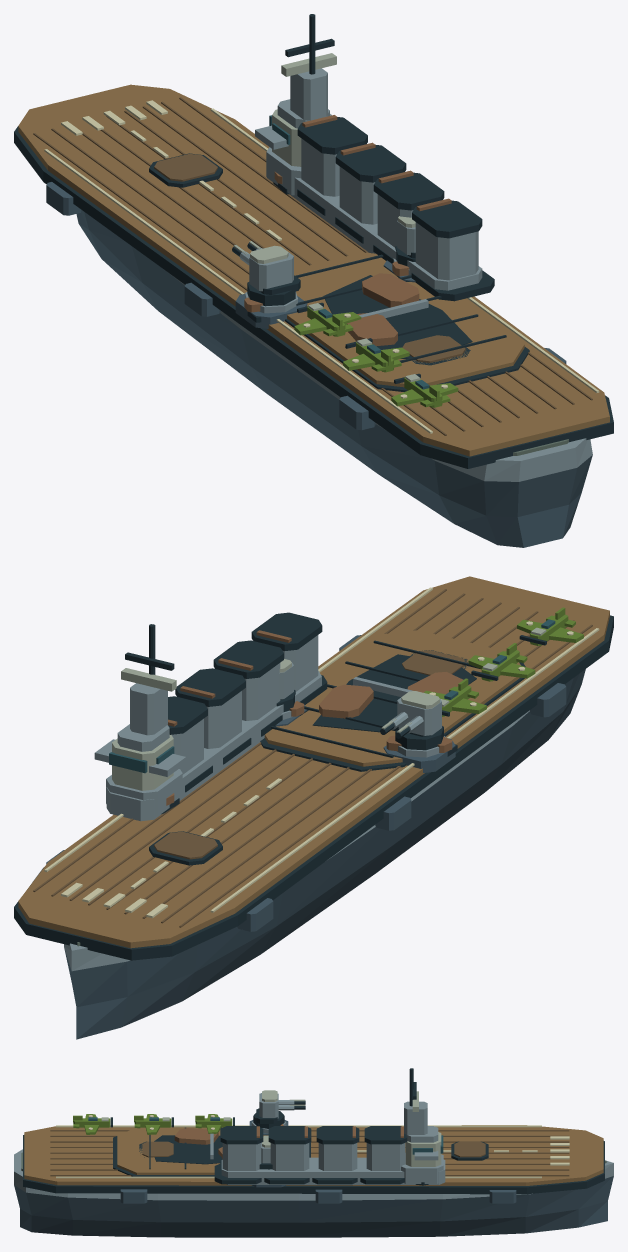
Rendered from historic-independence.glb.
3 renders of one model, top to bottom at view 1: azimuth 30°, elevation 25°; view 2: azimuth 150°, elevation 25°; view 3: azimuth 270°, elevation 25°, orthographic. The views are drawn at different scales.
Parts seen in each view (by area): view 1: historic-independence-historic-independence-geometry, historic-independence-part_flight-deck.015-geometry, historic-independence-historic_funnel_3.001-geometry, historic-independence-ruin_flight-deck.014-geometry, historic-independence-part_bridge.073-geometry, historic-independence-historic_funnel_2.004-geometry, historic-independence-historic_funnel_1.039-geometry, historic-independence-historic_funnel_0.076-geometry, historic-independence-turret_aa_aa-port.077-geometry, historic-independence-aircraft_lift_0.015-geometry, historic-independence-parked_aircraft_0.015-geometry, historic-independence-parked_aircraft_1.015-geometry (+4 smaller); view 2: historic-independence-historic-independence-geometry, historic-independence-part_flight-deck.015-geometry, historic-independence-part_bridge.073-geometry, historic-independence-ruin_flight-deck.014-geometry, historic-independence-historic_funnel_3.001-geometry, historic-independence-historic_funnel_2.004-geometry, historic-independence-historic_funnel_0.076-geometry, historic-independence-historic_funnel_1.039-geometry, historic-independence-turret_aa_aa-port.077-geometry, historic-independence-aircraft_lift_0.015-geometry, historic-independence-parked_aircraft_1.015-geometry, historic-independence-parked_aircraft_0.015-geometry (+4 smaller); view 3: historic-independence-historic-independence-geometry, historic-independence-historic_funnel_3.001-geometry, historic-independence-part_bridge.073-geometry, historic-independence-historic_funnel_2.004-geometry, historic-independence-part_flight-deck.015-geometry, historic-independence-historic_funnel_1.039-geometry, historic-independence-historic_funnel_0.076-geometry, historic-independence-ruin_flight-deck.014-geometry, historic-independence-turret_aa_aa-port.077-geometry, historic-independence-aircraft_lift_0.015-geometry, historic-independence-parked_aircraft_0.015-geometry, historic-independence-parked_aircraft_1.015-geometry (+3 smaller).
Boxes of the visible parts, x1=… form: historic-independence-historic-independence-geometry: x1=14, y1=84, x2=613, y2=547; historic-independence-part_flight-deck.015-geometry: x1=285, y1=252, x2=529, y2=391; historic-independence-historic_funnel_3.001-geometry: x1=295, y1=178, x2=494, y2=301; historic-independence-ruin_flight-deck.014-geometry: x1=323, y1=273, x2=472, y2=358; historic-independence-part_bridge.073-geometry: x1=255, y1=14, x2=336, y2=195; historic-independence-historic_funnel_2.004-geometry: x1=290, y1=170, x2=444, y2=263; historic-independence-historic_funnel_1.039-geometry: x1=269, y1=142, x2=406, y2=243; historic-independence-historic_funnel_0.076-geometry: x1=267, y1=115, x2=367, y2=215; historic-independence-turret_aa_aa-port.077-geometry: x1=232, y1=241, x2=300, y2=306; historic-independence-aircraft_lift_0.015-geometry: x1=149, y1=153, x2=222, y2=187; historic-independence-parked_aircraft_0.015-geometry: x1=391, y1=373, x2=458, y2=407; historic-independence-parked_aircraft_1.015-geometry: x1=343, y1=338, x2=409, y2=372; historic-independence-historic-independence-geometry: x1=14, y1=576, x2=613, y2=1039; historic-independence-part_flight-deck.015-geometry: x1=260, y1=630, x2=525, y2=771; historic-independence-part_bridge.073-geometry: x1=94, y1=624, x2=185, y2=816; historic-independence-ruin_flight-deck.014-geometry: x1=312, y1=654, x2=476, y2=732; historic-independence-historic_funnel_3.001-geometry: x1=183, y1=612, x2=327, y2=790; historic-independence-historic_funnel_2.004-geometry: x1=138, y1=640, x2=283, y2=808; historic-independence-historic_funnel_0.076-geometry: x1=106, y1=696, x2=212, y2=821; historic-independence-historic_funnel_1.039-geometry: x1=134, y1=668, x2=251, y2=819; historic-independence-turret_aa_aa-port.077-geometry: x1=380, y1=691, x2=443, y2=750; historic-independence-aircraft_lift_0.015-geometry: x1=149, y1=831, x2=222, y2=865; historic-independence-parked_aircraft_1.015-geometry: x1=468, y1=643, x2=535, y2=681; historic-independence-parked_aircraft_0.015-geometry: x1=517, y1=607, x2=583, y2=645; historic-independence-historic-independence-geometry: x1=14, y1=1125, x2=613, y2=1237; historic-independence-historic_funnel_3.001-geometry: x1=214, y1=1126, x2=406, y2=1184; historic-independence-part_bridge.073-geometry: x1=401, y1=1068, x2=443, y2=1183; historic-independence-historic_funnel_2.004-geometry: x1=264, y1=1126, x2=430, y2=1184; historic-independence-part_flight-deck.015-geometry: x1=113, y1=1127, x2=310, y2=1176; historic-independence-historic_funnel_1.039-geometry: x1=312, y1=1126, x2=444, y2=1184; historic-independence-historic_funnel_0.076-geometry: x1=360, y1=1126, x2=445, y2=1184; historic-independence-ruin_flight-deck.014-geometry: x1=154, y1=1128, x2=222, y2=1164; historic-independence-turret_aa_aa-port.077-geometry: x1=253, y1=1090, x2=305, y2=1128; historic-independence-aircraft_lift_0.015-geometry: x1=451, y1=1141, x2=488, y2=1160; historic-independence-parked_aircraft_0.015-geometry: x1=73, y1=1114, x2=112, y2=1134; historic-independence-parked_aircraft_1.015-geometry: x1=134, y1=1114, x2=173, y2=1134.
Size of the model in its own units: 1.58 by 1.92 by 5.89.
